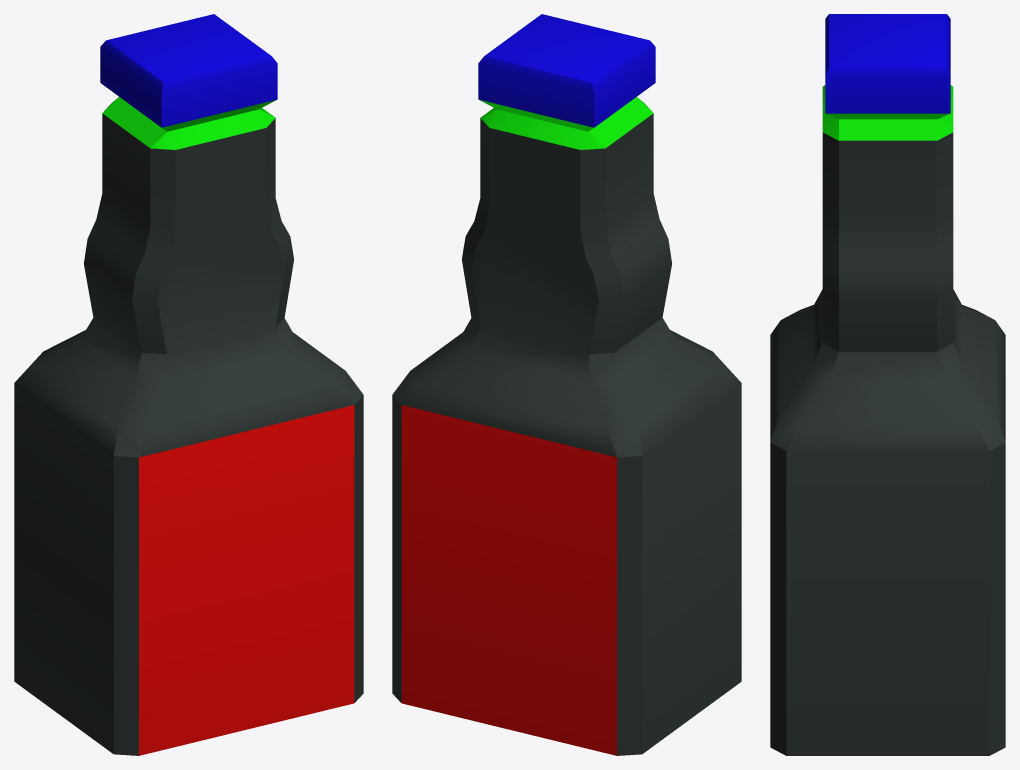
The model's file is SM_Bottle.fbx.
3 renders of one model, left to right at view 1: azimuth 30°, elevation 25°; view 2: azimuth 150°, elevation 25°; view 3: azimuth 270°, elevation 25°, orthographic. The views are drawn at different scales.
Parts seen in each view (by area): view 1: SM_Bottle; view 2: SM_Bottle; view 3: SM_Bottle.
Boxes of the visible parts, box(x1,y1,x2,y2) form: SM_Bottle: box(14, 14, 363, 755); SM_Bottle: box(392, 14, 741, 755); SM_Bottle: box(770, 14, 1005, 755).
Bounding box in the file's own units: 11.56 × 14.47 × 35.49.
